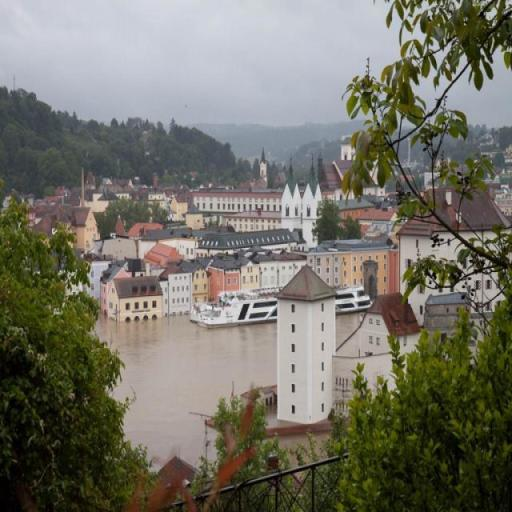flood: (96, 316, 276, 468), (337, 313, 364, 342)
house: (398, 188, 508, 317), (279, 263, 335, 424), (308, 239, 398, 301), (102, 264, 162, 328), (136, 454, 195, 512), (372, 291, 424, 349), (319, 156, 386, 197), (254, 250, 308, 296), (188, 188, 282, 214), (198, 230, 298, 252), (423, 292, 473, 330), (71, 202, 101, 260), (280, 182, 323, 222), (160, 264, 194, 314), (210, 256, 240, 302), (144, 242, 182, 268), (355, 208, 397, 231), (190, 260, 208, 306), (237, 254, 258, 292)
